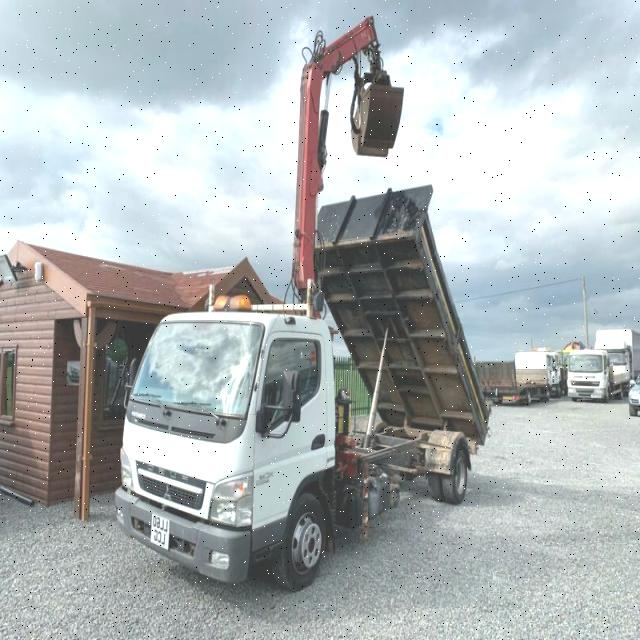truck: (118, 182, 490, 590)
